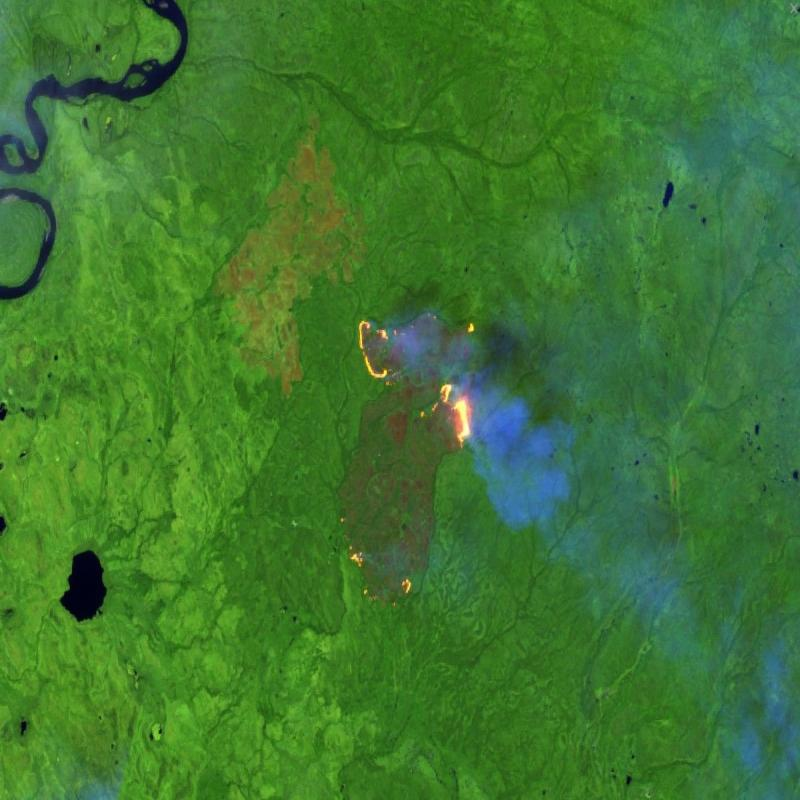fire: (341, 314, 485, 608)
